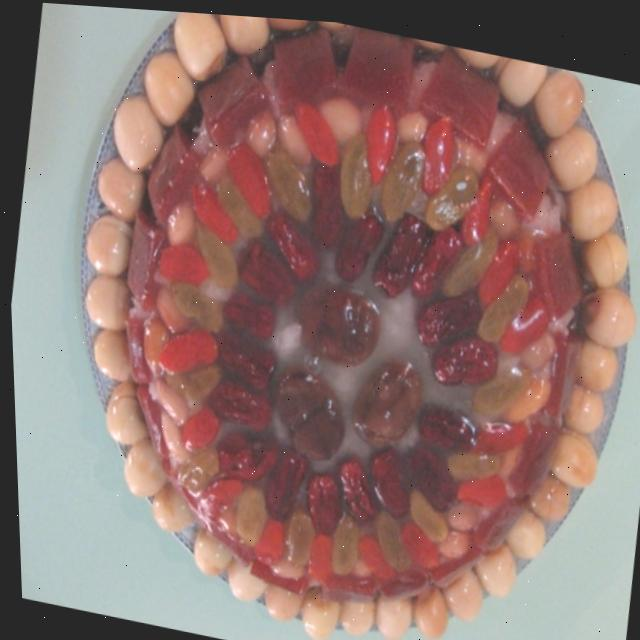米饭主食: (2, 0, 640, 640)
